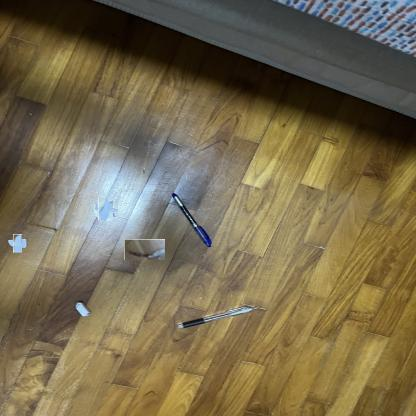dirty: (124, 239, 165, 260), (96, 200, 116, 219), (11, 236, 24, 251)
